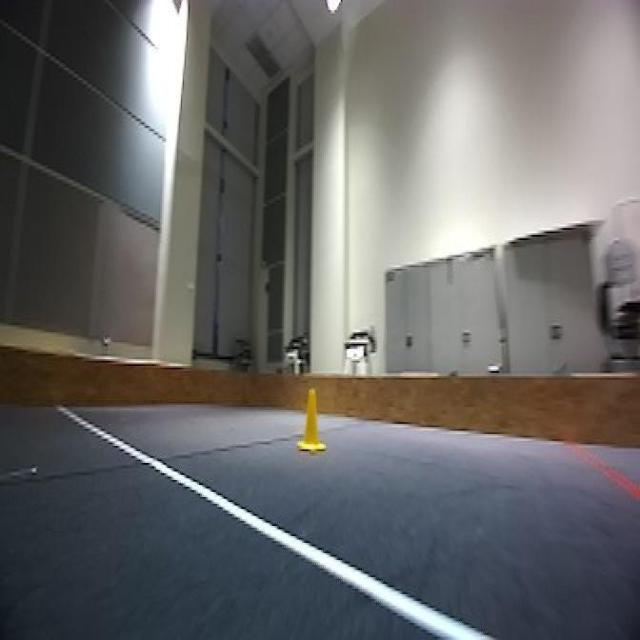frc_cone: (298, 386, 328, 453)
